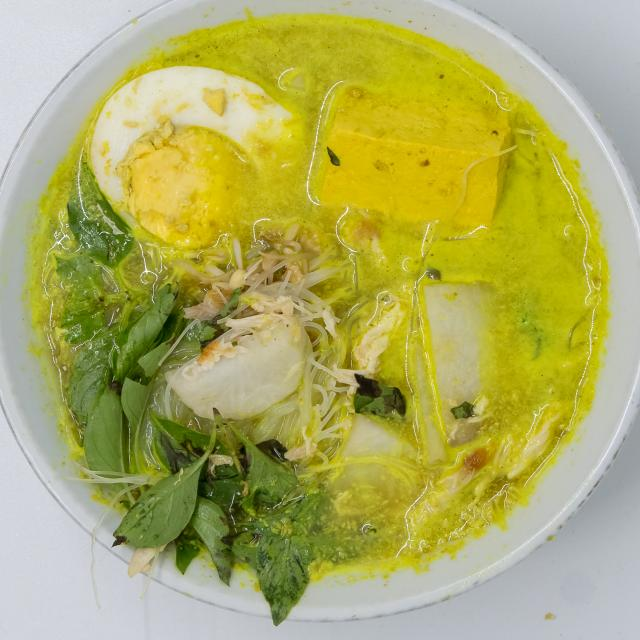Laksa-Bogor: (19, 6, 618, 600)
